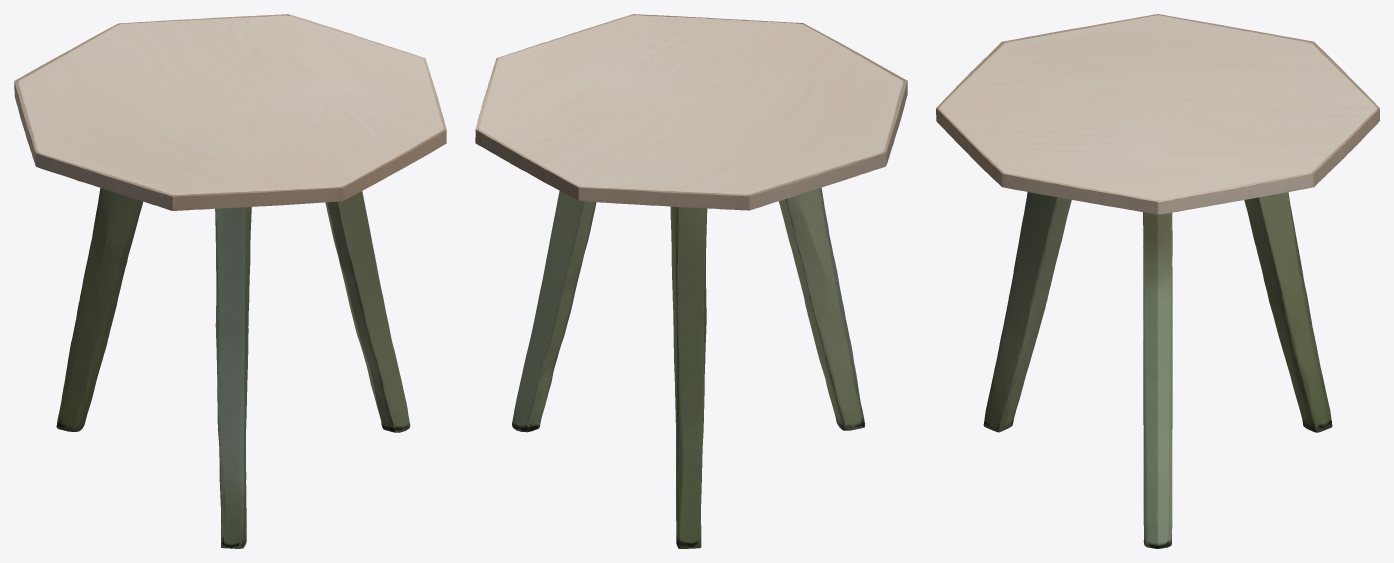
The model's file is table.glb.
3 renders of one model, left to right at view 1: azimuth 30°, elevation 25°; view 2: azimuth 150°, elevation 25°; view 3: azimuth 270°, elevation 25°, orthographic.
Visible parts, largest first — view 1: world; view 2: world; view 3: world.
Boxes of the visible parts, left/top/right/bottom form: world: left=14, top=14, right=446, bottom=548; world: left=475, top=14, right=907, bottom=548; world: left=936, top=14, right=1379, bottom=548.
Bounding box in the file's own units: 1 × 0.8891 × 0.9997.
1 material, 1 textured.
